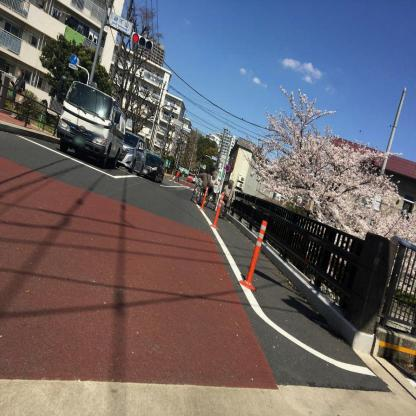Someiyoshino: (235, 69, 416, 299)
